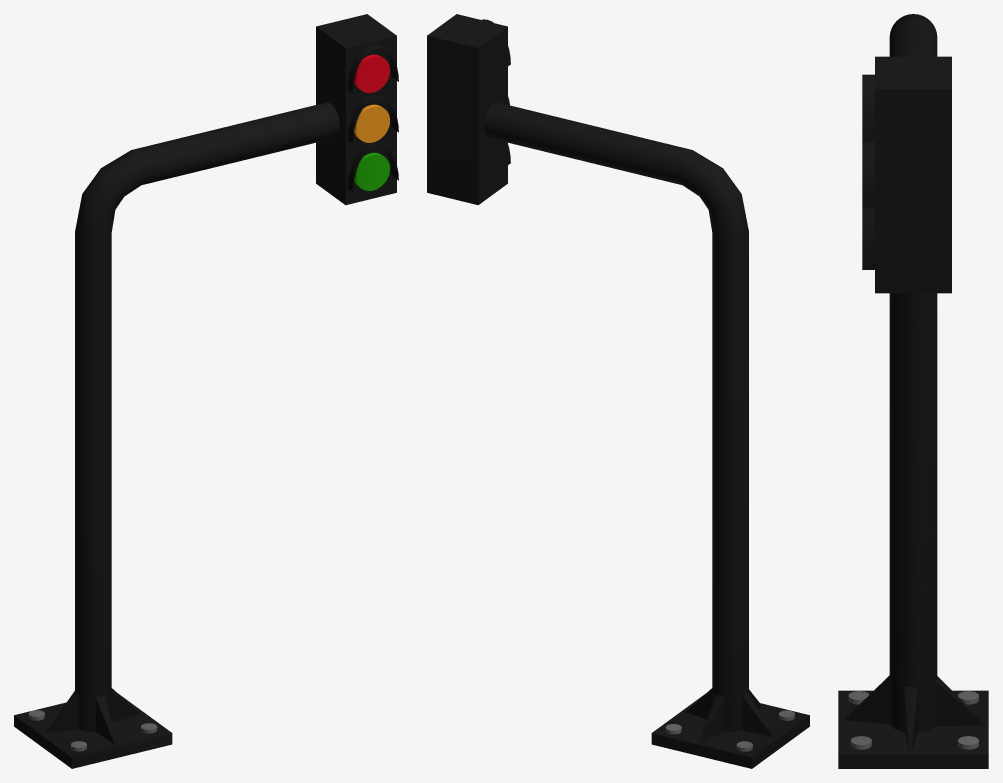
The model's file is trafik lambası büyük yeni.fbx.
The picture shows the model from 3 angles, left to right: view 1: azimuth 30°, elevation 25°; view 2: azimuth 150°, elevation 25°; view 3: azimuth 270°, elevation 25°; orthographic projection. The views are drawn at different scales.
Parts seen in each view (by area): view 1: Plane; view 2: Plane; view 3: Plane.
Boxes of the visible parts, bbox=[...] form: Plane: bbox=[14, 14, 398, 768]; Plane: bbox=[427, 14, 809, 768]; Plane: bbox=[838, 14, 988, 768].
Bounding box in the file's own units: 163 × 294 × 48.23.
Materials: 1 (1 with a texture image).
